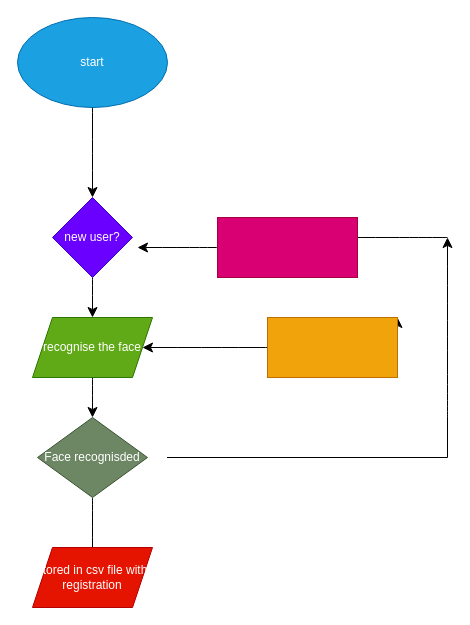
Some shapes in this 470 by 625 pixel diagram are drawn without their labels. The centre of each missing label's shape, as x and y in pixels:
"give your photograph" goes at point (287, 247).
"store the face data in folder on your name" goes at point (332, 347).
